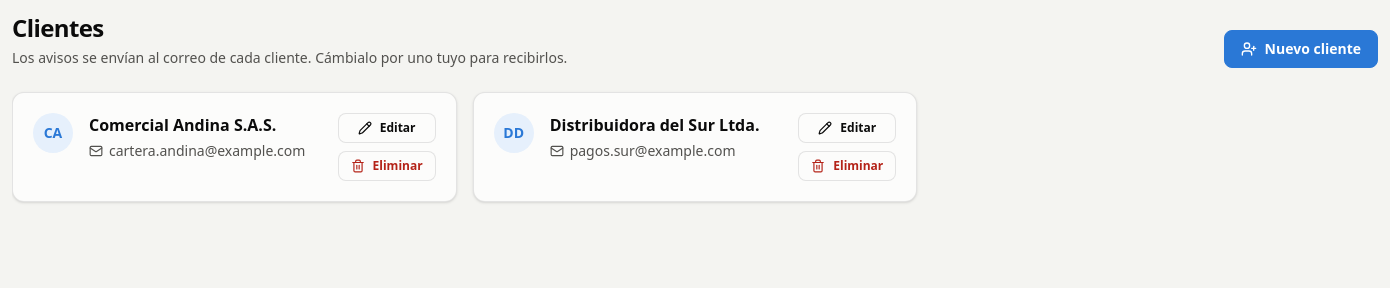
Test: ClientesPage: eliminar cliente › al confirmar elimina el cliente y muestra qué se borró
The image size is (1390, 288).
Click the button with aria-label "Eliminar Comercial Andina S.A.S." at point(387, 166), box top-left (338, 151), bottom-right (436, 181)
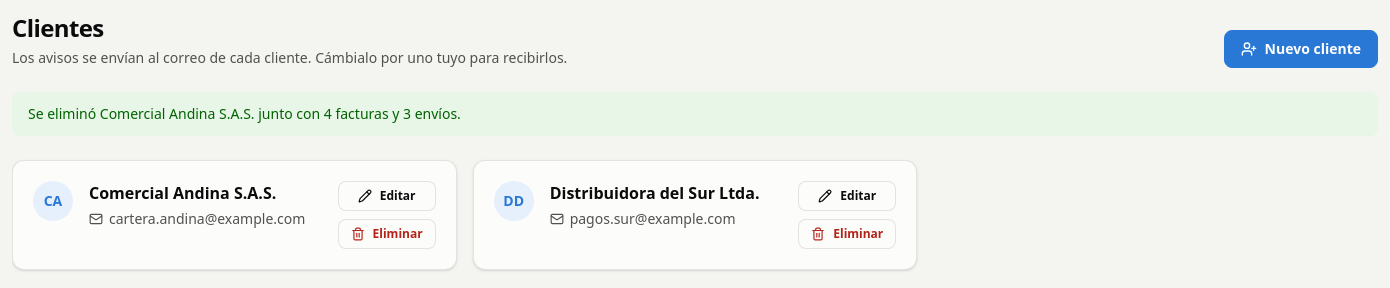
Now the message reads "Se eliminó Comercial Andina S.A.S. junto con 4 facturas y 3 envíos.", box top-left (28, 104), bottom-right (461, 123)
